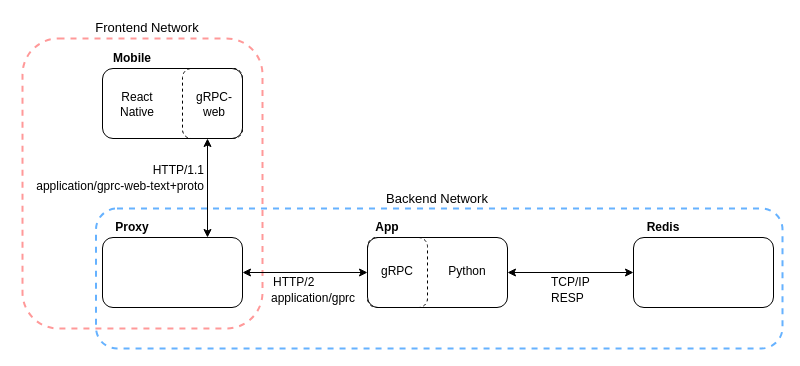
The diagram is 800 pixels wide and 366 high, and some of its shapes have lost their labels. Each missing label, with the box of its shape:
Envoy: (102, 236, 242, 308)
Redis Enterprise RedisGraph: (632, 236, 774, 308)
